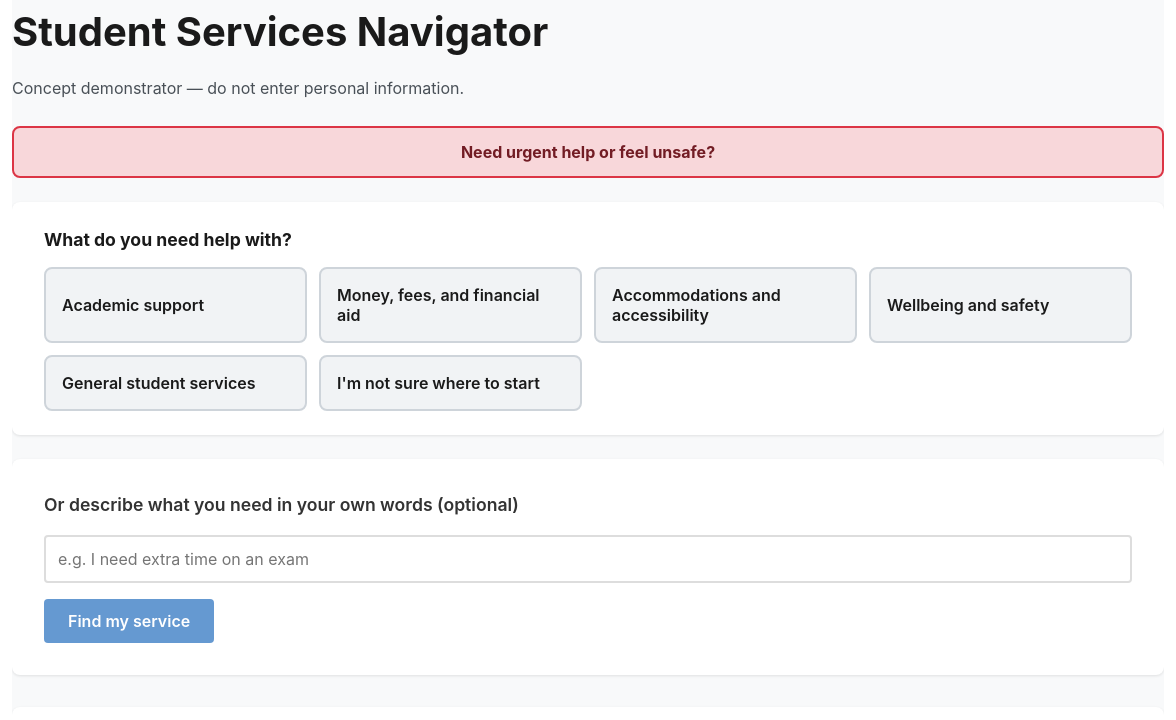
Test: A-05: focus moves logically after a selection › the result region receives focus after a category selection
What coordinates should you click on to do the following:
click the button "Academic support"
I would click on:
 (176, 304)
Its box is [44,266,307,342].
(page scrolled)
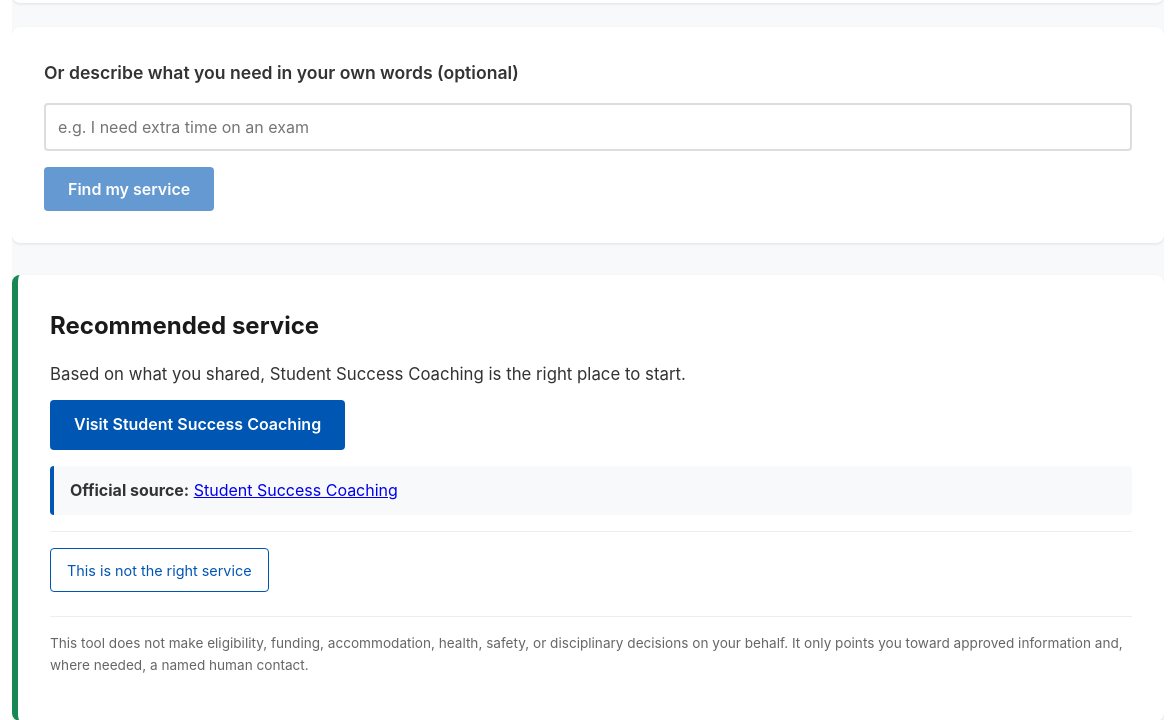
Check: the heading "Recommended service" is shown, box [50,311,319,340]
